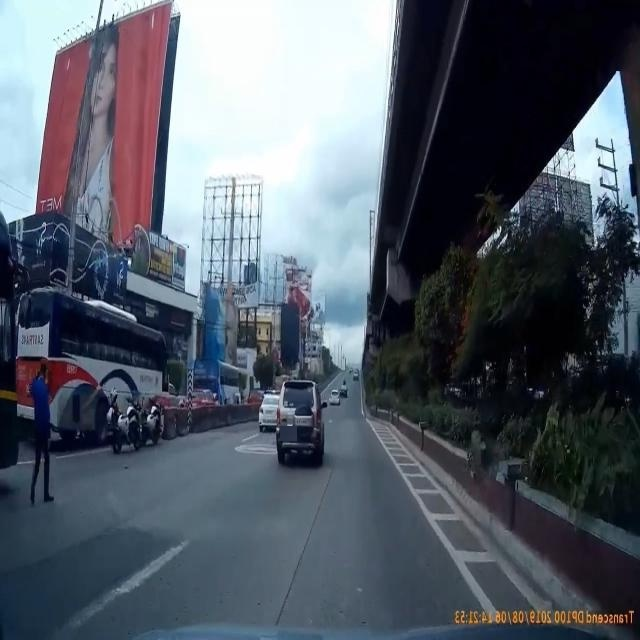bus: (13, 306, 177, 458), (190, 359, 260, 422)
car: (272, 374, 324, 476), (256, 389, 284, 431), (327, 388, 339, 407)
motorcycle: (101, 390, 143, 475), (136, 397, 169, 450)
